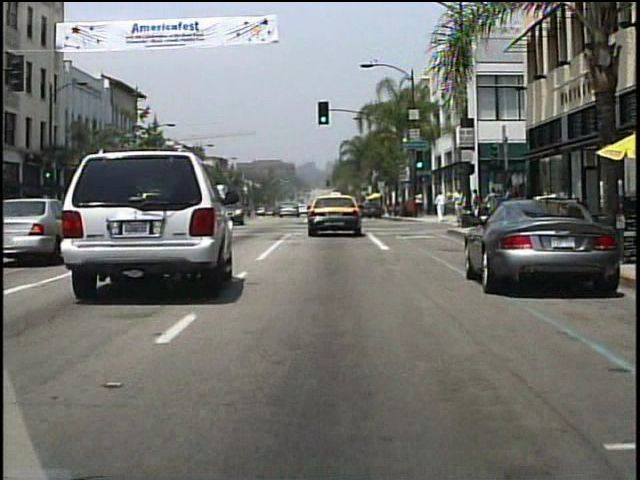person: (484, 188, 501, 227), (468, 187, 484, 226), (451, 187, 463, 226), (433, 190, 447, 222), (415, 191, 426, 217)
